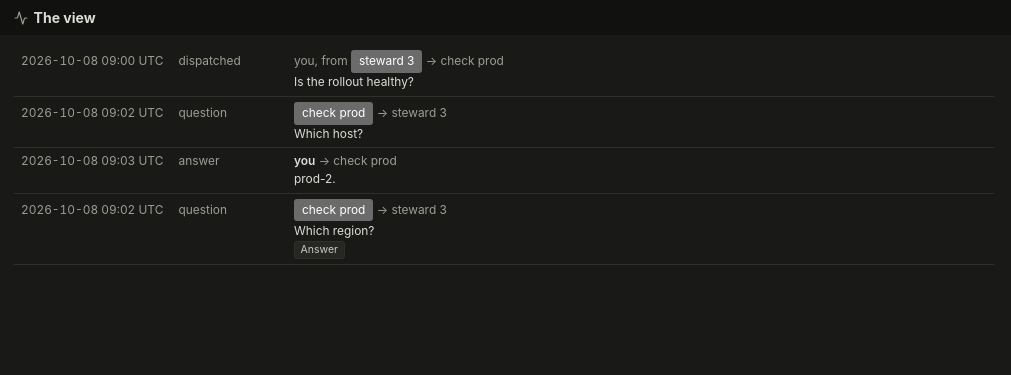
it: every view in purlis-dark › draws a chat's activity, a question being answered with tokens only
The image size is (1011, 375).
Click the button with aria-label "Answer check prod's question": (319,250) [294,241,345,259]
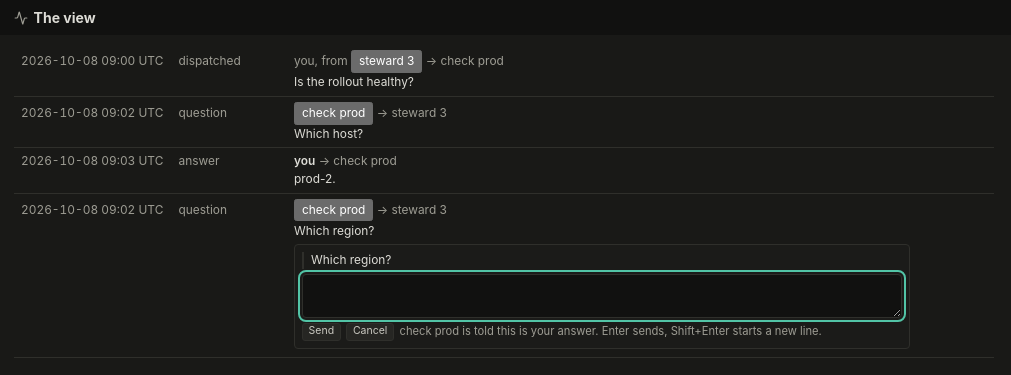
Check: the text "Enter sends, Shift+Enter starts a new line" is shown, box [400,324,822,338]
